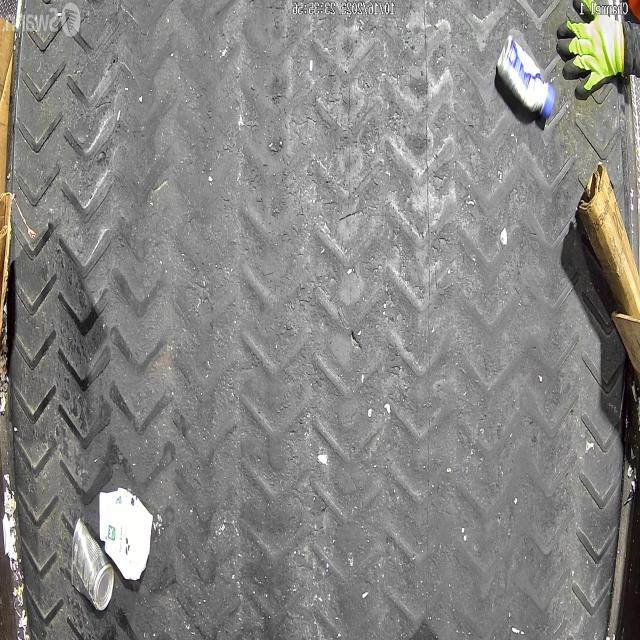can: (70, 518, 114, 612)
